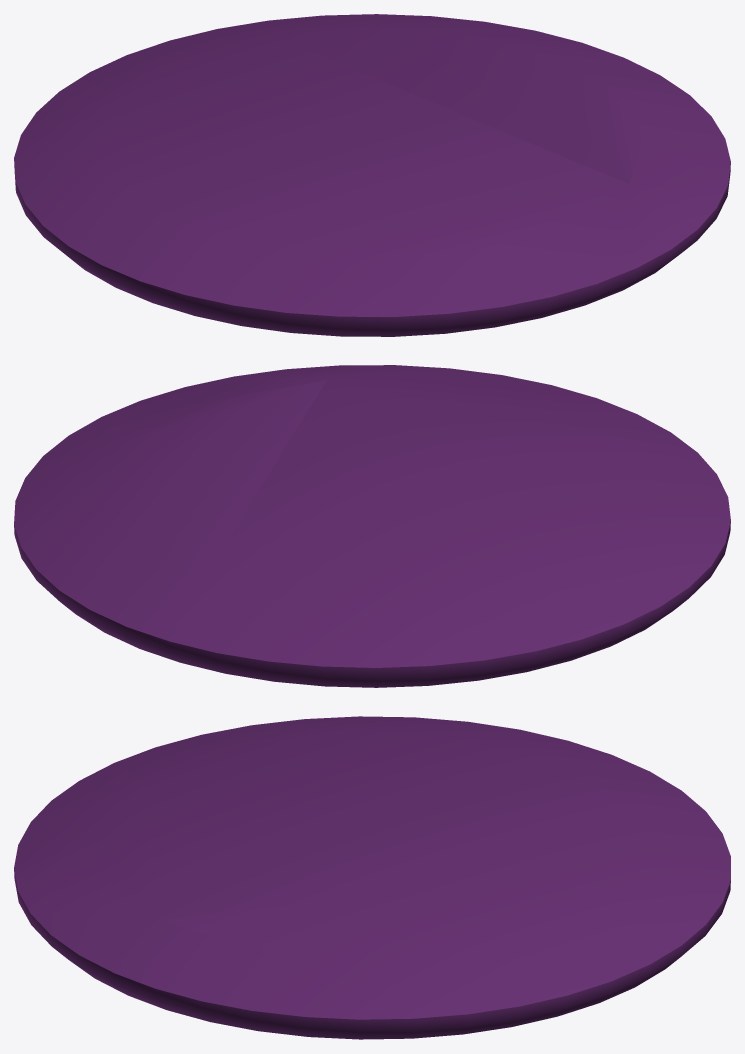
The model's file is disc.gltf.
The picture shows the model from 3 angles, top to bottom: view 1: azimuth 30°, elevation 25°; view 2: azimuth 150°, elevation 25°; view 3: azimuth 270°, elevation 25°; orthographic projection.
Visible parts, largest first — view 1: TARELKA; view 2: TARELKA; view 3: TARELKA.
Boxes of the visible parts, bbox=[...] form: TARELKA: bbox=[14, 14, 730, 336]; TARELKA: bbox=[14, 365, 730, 687]; TARELKA: bbox=[14, 716, 730, 1039].
Size of the model in its own units: 0.3329 by 0.0255 by 0.3327.
